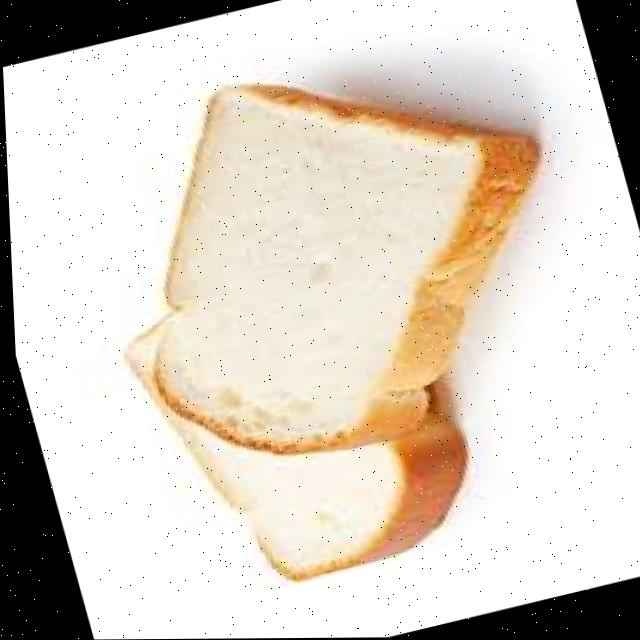Bread: (124, 86, 531, 454), (166, 415, 457, 580)
